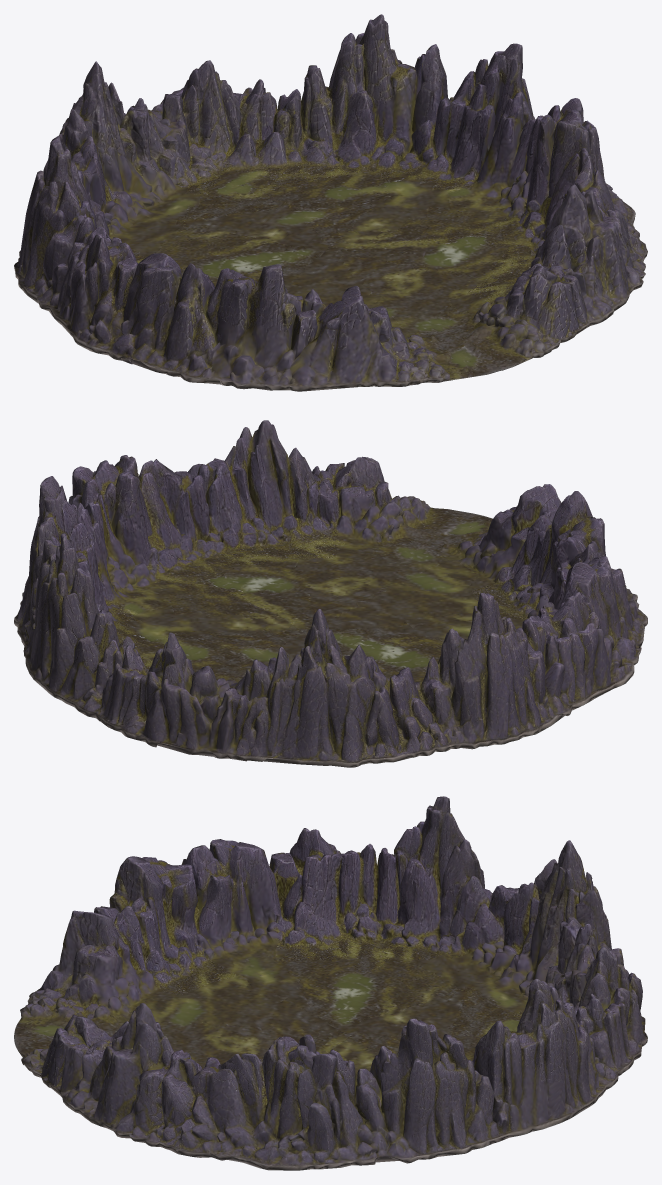
The model's file is Meshy_AI_Dark_Swamp_Basin_Terrain_20261030_texture.fbx.
The picture shows the model from 3 angles, top to bottom: view 1: azimuth 30°, elevation 25°; view 2: azimuth 150°, elevation 25°; view 3: azimuth 270°, elevation 25°; orthographic projection.
Visible parts, largest first — view 1: Mesh_0; view 2: Mesh_0; view 3: Mesh_0.
Boxes of the visible parts, x1=… form: Mesh_0: x1=14, y1=14, x2=647, y2=391; Mesh_0: x1=14, y1=420, x2=647, y2=767; Mesh_0: x1=14, y1=796, x2=647, y2=1170.
Size of the model in its own units: 200 by 48.39 by 198.
1 material, 1 textured.
